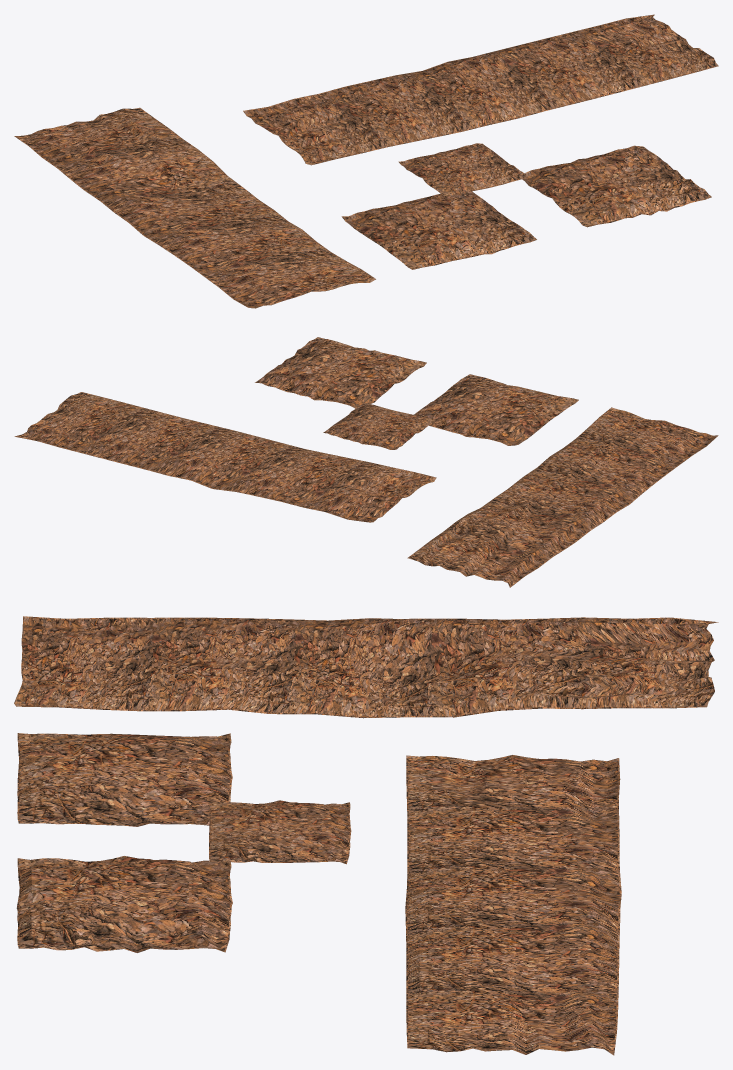
Rendered from Ground_Stone.glb.
The picture shows the model from 3 angles, top to bottom: view 1: azimuth 30°, elevation 25°; view 2: azimuth 150°, elevation 25°; view 3: azimuth 270°, elevation 25°; orthographic projection. The views are drawn at different scales.
Visible parts, largest first — view 1: Plane.002; view 2: Plane.002; view 3: Plane.002.
Part boxes in pixels (x1,y1,x2,y2): Plane.002: [14, 14, 718, 308]; Plane.002: [14, 337, 718, 587]; Plane.002: [14, 616, 718, 1055].
Bounding box in the file's own units: 36.32 × 0.8956 × 24.79.
Materials: 1 (1 with a texture image).
